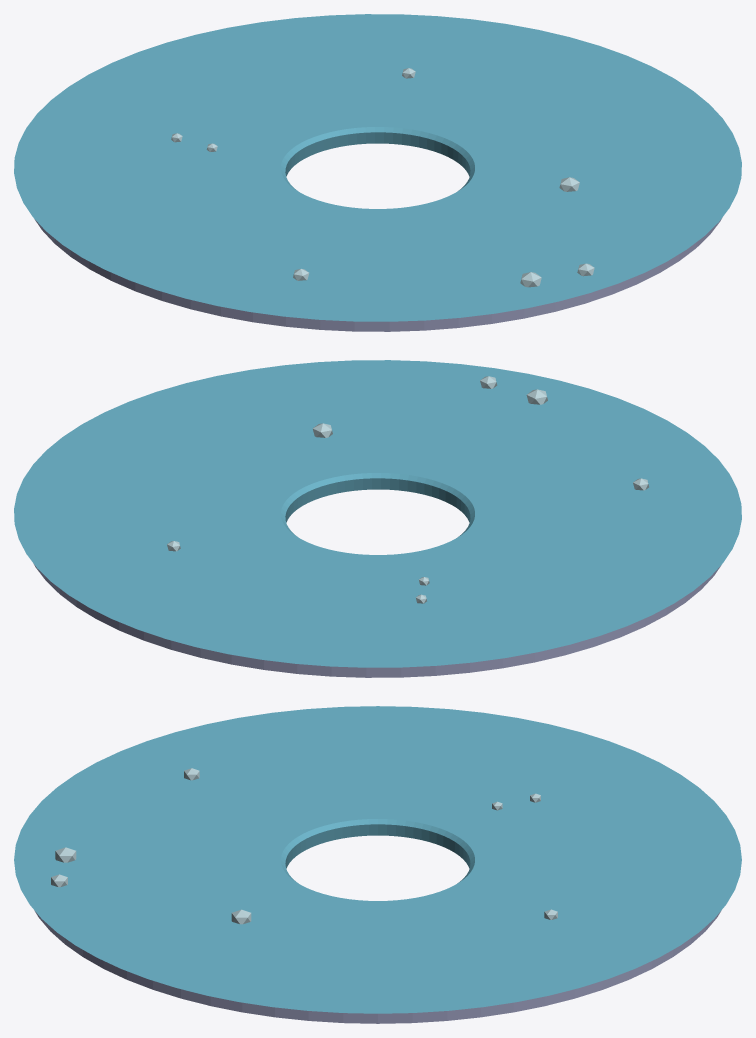
Rendered from goo_jar_deck_3@crystal.fbx.
The picture shows the model from 3 angles, top to bottom: view 1: azimuth 30°, elevation 25°; view 2: azimuth 150°, elevation 25°; view 3: azimuth 270°, elevation 25°; orthographic projection.
Parts seen in each view (by area): view 1: goo_jar_deck_3; view 2: goo_jar_deck_3; view 3: goo_jar_deck_3.
Boxes of the visible parts, <box> form: goo_jar_deck_3: <box>14,14,741,331</box>; goo_jar_deck_3: <box>14,360,741,677</box>; goo_jar_deck_3: <box>14,706,741,1023</box>.
Bounding box in the file's own units: 47.2 × 1.84 × 47.2.
